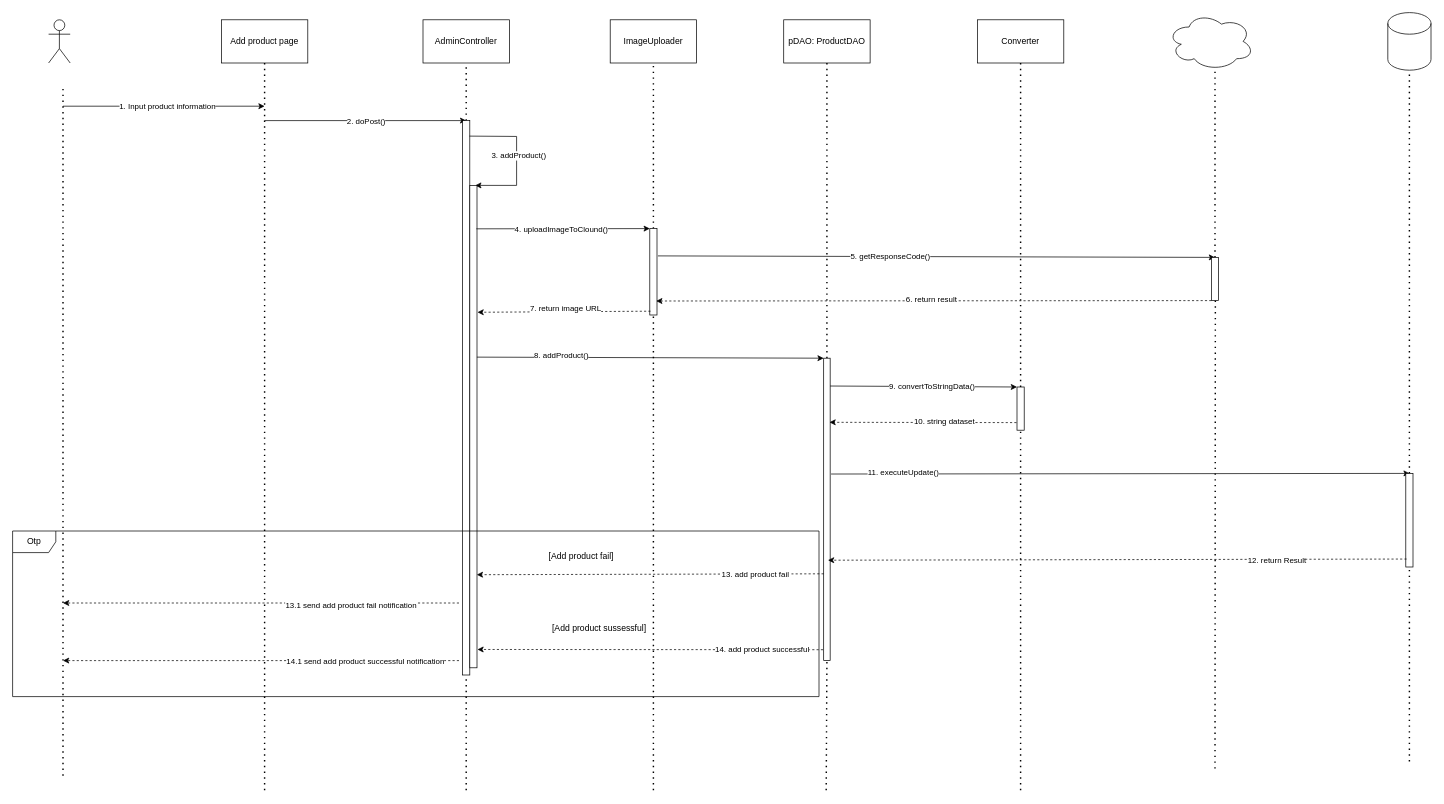
Image size: 1444x804. Some labels were removed from this diagram. The shapes that lost their labels are listed below. From the top down, each one's centre as x and y in pixels, then its label:
At (59,41): "Admin".
At (1210,41): "Cloud".
At (1409,41): "DB".
